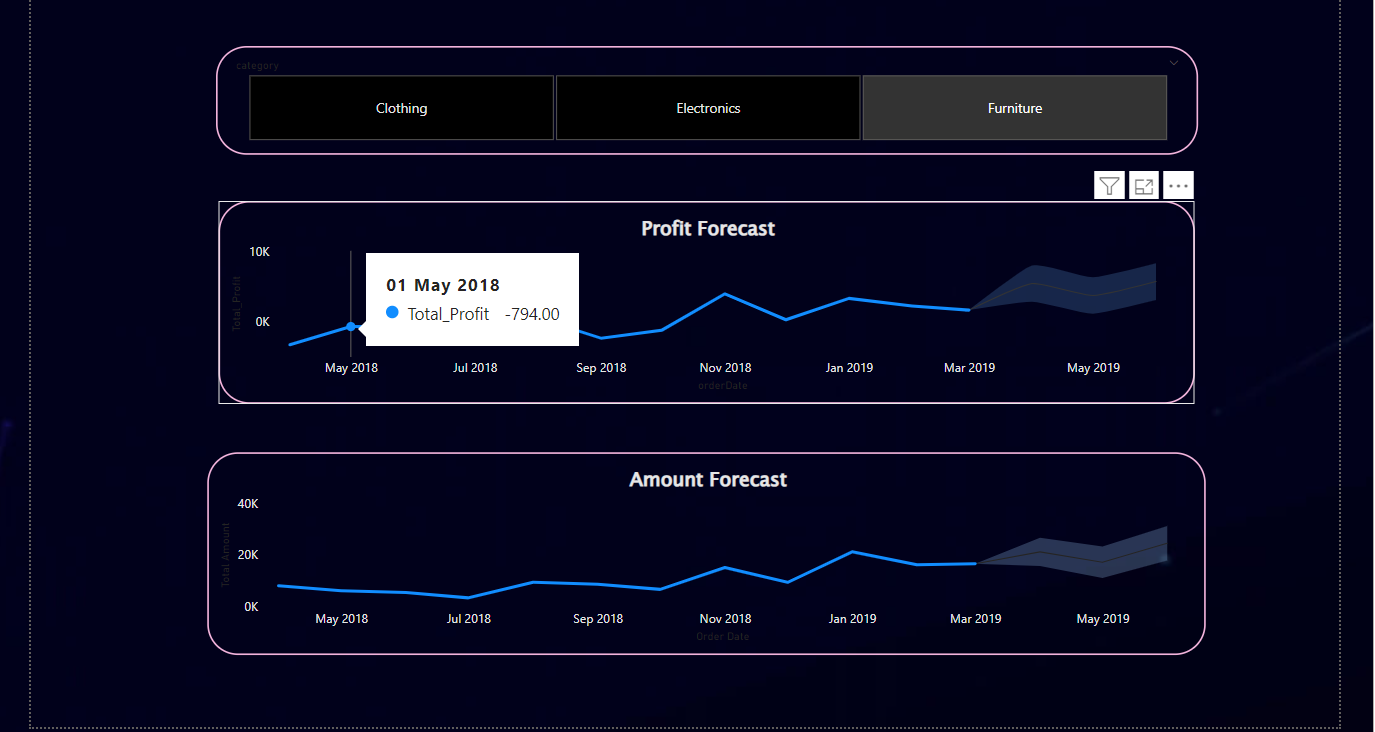

The page's visual inventory and layout, read from the dashboard file:
{"tool":"powerbi","page":{"name":"Page 2","canvas":[1280,720],"ordinal":1},"visuals":[{"type":"lineChart","title":"Amount Forecast","fields":{"Category":["Time_Based_Data.orderDate"],"Y":["Sum(Time_Based_Data.Total_Amount)"]},"box":[172.4,451.2,977,198.1],"z":0},{"type":"lineChart","title":"Profit Forecast","fields":{"Category":["Time_Based_Data.orderDate"],"Y":["Sum(Time_Based_Data.Total_Profit)"]},"box":[183.4,205.4,955,198.1],"z":1000},{"type":"slicer","fields":{"Values":["Categorical_Data.category"]},"box":[181,53.8,961.1,106.4],"z":2000}]}

Visuals, with their boxes in screenshot pixels (x1, y1, x2, y2):
"Amount Forecast" lineChart: (left=219, top=448, right=1197, bottom=646)
"Profit Forecast" lineChart: (left=230, top=202, right=1186, bottom=400)
slicer - Categorical_Data.category: (left=228, top=50, right=1189, bottom=157)
